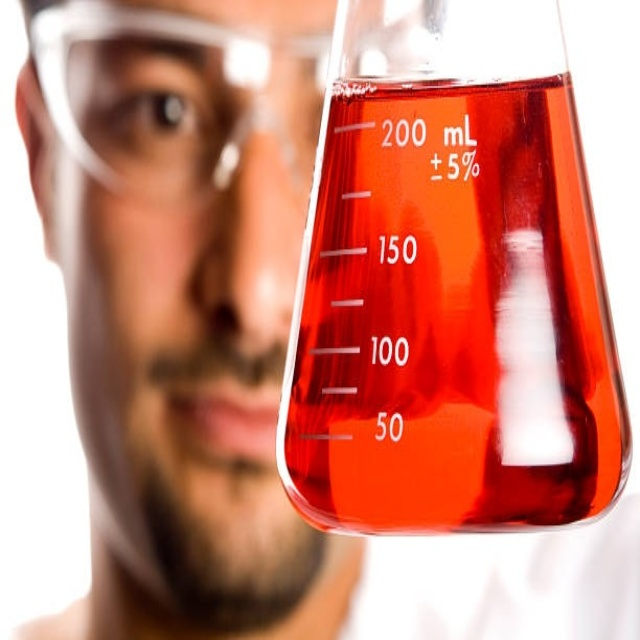Gafas: (14, 1, 402, 205)
Sin_mascara: (133, 318, 281, 579)
